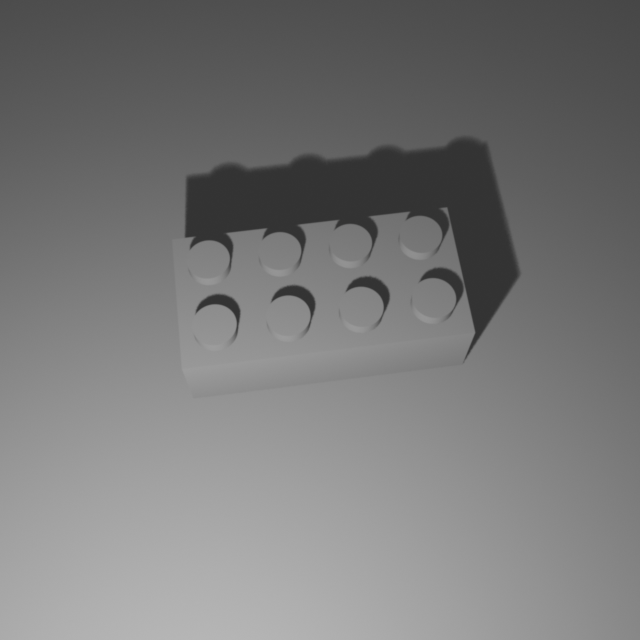lego_2x4: (170, 200, 478, 399)
